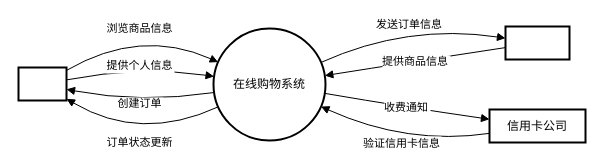
Image size: 603x166. Some labels were removed from this diagram. Each missing label, with the centre of its shape:
供应商: the point at 537,42
客户: the point at 42,83
